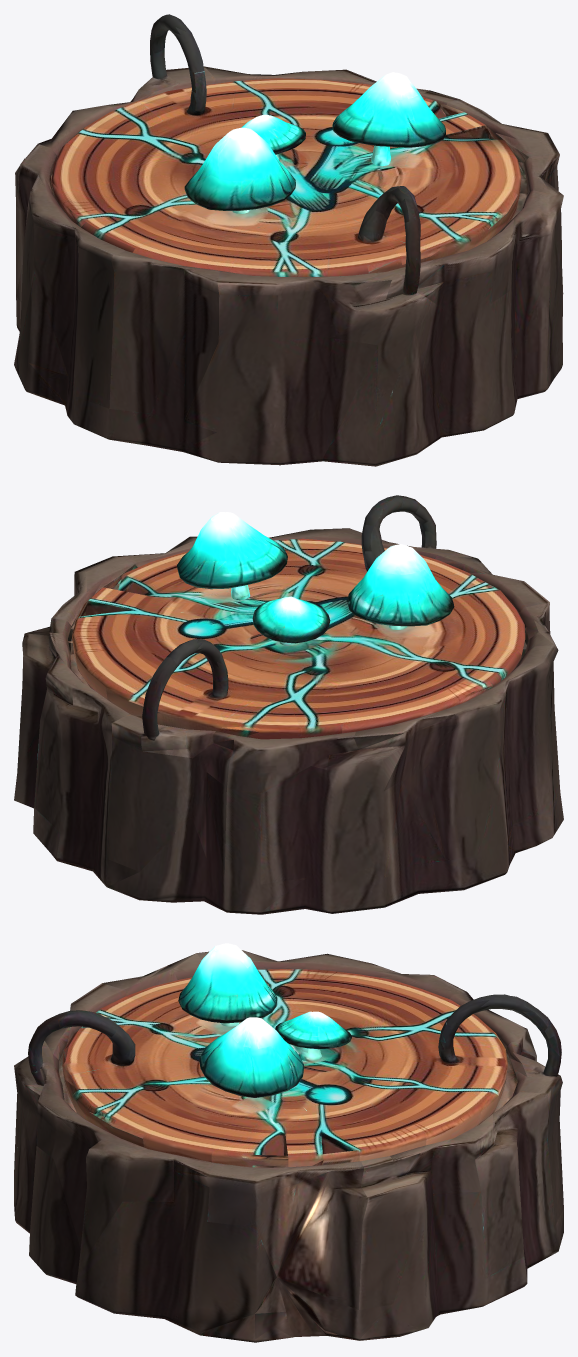
File: mycelium.glb
The picture shows the model from 3 angles, top to bottom: view 1: azimuth 30°, elevation 25°; view 2: azimuth 150°, elevation 25°; view 3: azimuth 270°, elevation 25°; orthographic projection. The views are drawn at different scales.
Size of the model in its own units: 0.9766 by 0.5117 by 1.
Materials: 1 (1 with a texture image).
